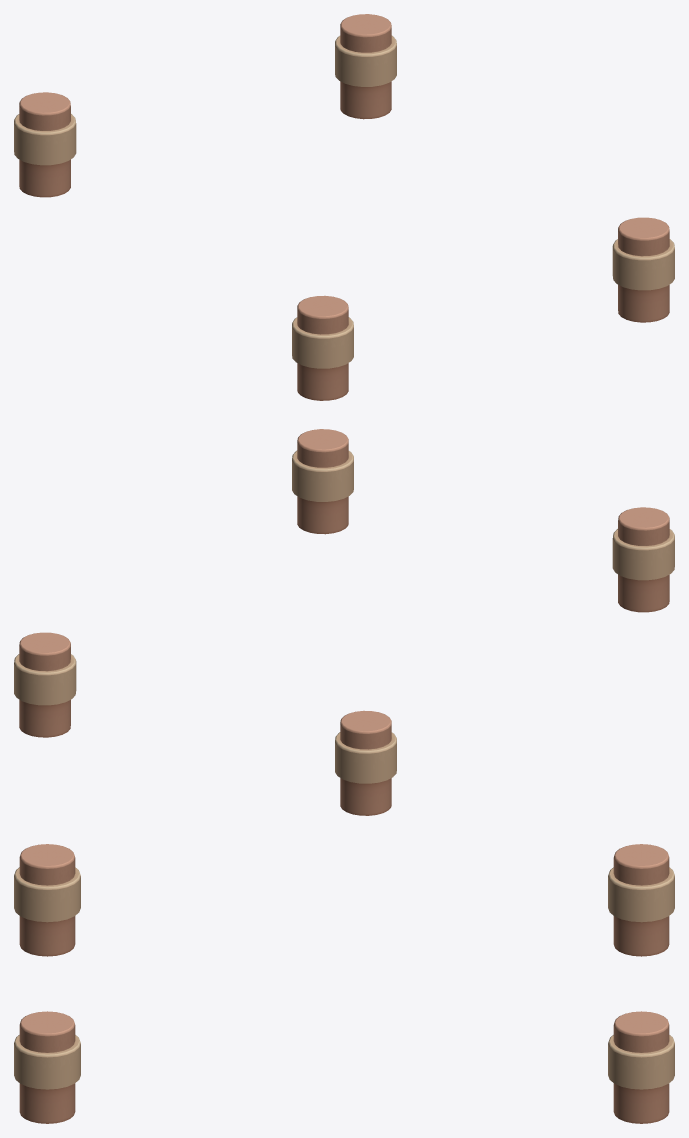
The model's file is Props.fbx.
3 views of the same model, one above another, from view 1: azimuth 30°, elevation 25°; view 2: azimuth 150°, elevation 25°; view 3: azimuth 270°, elevation 25° (orthographic). The views are drawn at different scales.
Parts seen in each view (by area): view 1: Cylinder-2 (2), Cylinder-2 (1), Cylinder-2, Cylinder-2 (3); view 2: Cylinder-2 (3), Cylinder-2, Cylinder-2 (1), Cylinder-2 (2); view 3: Cylinder-2 (2), Cylinder-2 (3), Cylinder-2, Cylinder-2 (1).
Boxes of the visible parts, x1=… form: Cylinder-2 (2): x1=612, y1=217, x2=674, y2=322; Cylinder-2 (1): x1=14, y1=92, x2=76, y2=197; Cylinder-2: x1=292, y1=295, x2=353, y2=400; Cylinder-2 (3): x1=335, y1=14, x2=396, y2=119; Cylinder-2 (3): x1=14, y1=632, x2=76, y2=737; Cylinder-2: x1=612, y1=507, x2=674, y2=612; Cylinder-2 (1): x1=335, y1=710, x2=396, y2=815; Cylinder-2 (2): x1=292, y1=429, x2=353, y2=534; Cylinder-2 (2): x1=14, y1=1011, x2=80, y2=1123; Cylinder-2 (3): x1=608, y1=1011, x2=674, y2=1123; Cylinder-2: x1=14, y1=844, x2=80, y2=956; Cylinder-2 (1): x1=608, y1=844, x2=674, y2=956.
Size of the model in its own units: 23.38 by 5 by 33.38.
Materials: 1 (1 with a texture image).
